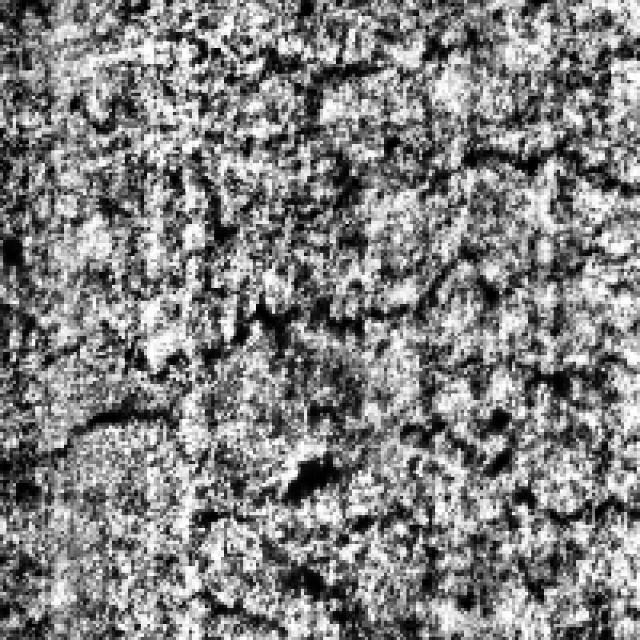Pitted_Surface: (67, 90, 598, 428), (179, 438, 592, 628), (0, 282, 195, 480)
